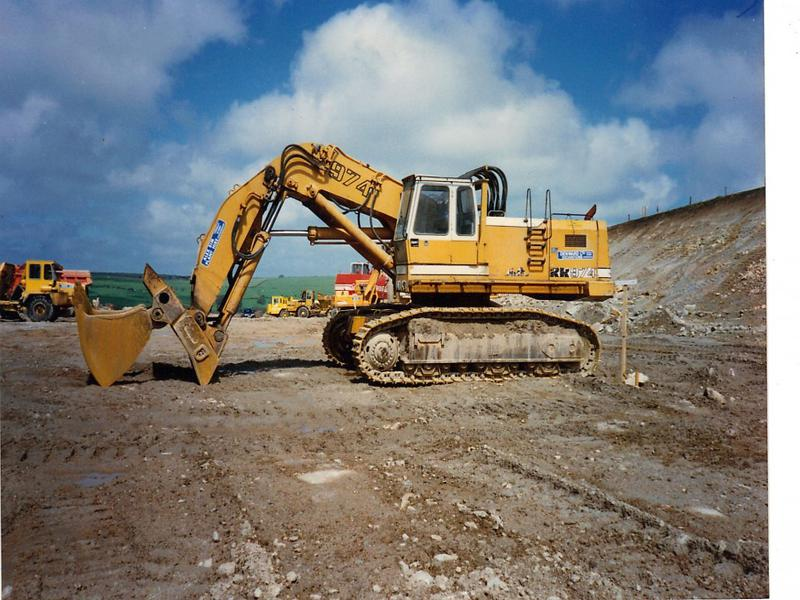shovel: (65, 138, 619, 392)
